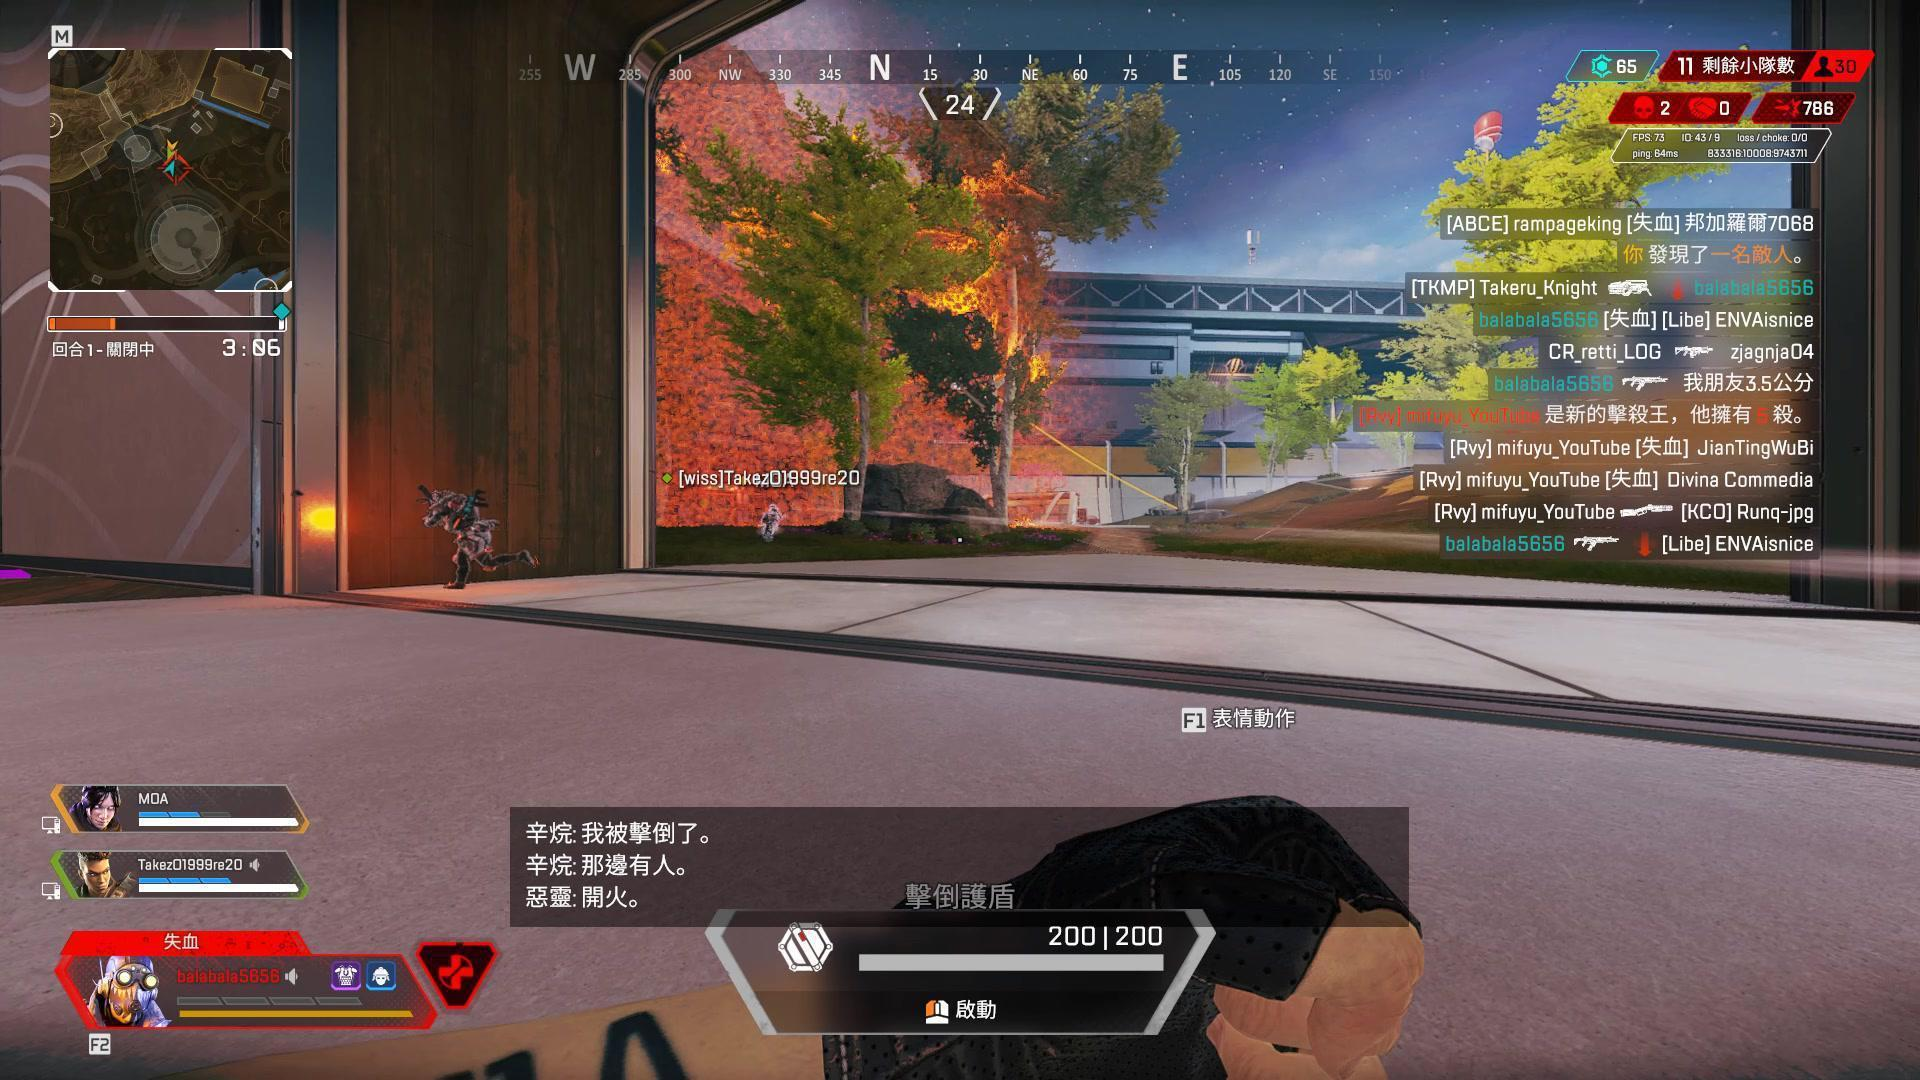avatar: (422, 487, 496, 592)
